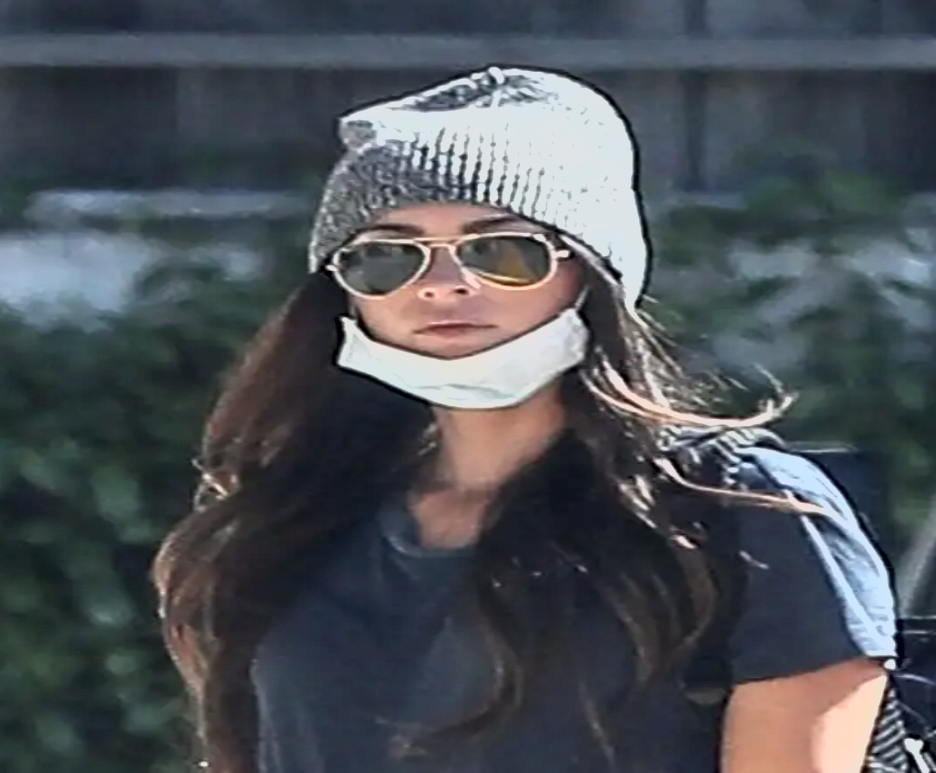mask_weared_incorrect: (309, 70, 646, 416)
